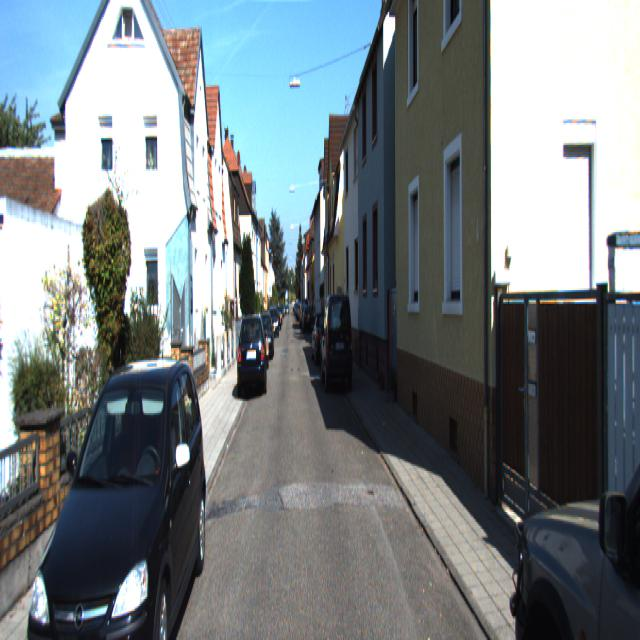Car: (11, 343, 212, 638), (510, 290, 640, 638), (320, 292, 353, 396), (238, 312, 266, 401)
